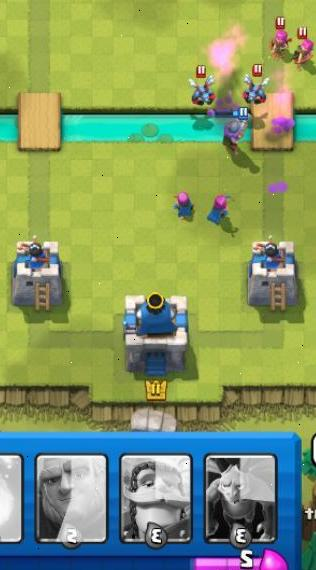enemy_archers: (266, 19, 295, 55), (292, 29, 316, 65)
enemy_minions: (186, 70, 220, 107), (240, 68, 273, 104)
player_archers: (204, 187, 239, 228), (170, 185, 199, 221)
player_musketeer: (203, 106, 256, 152)
